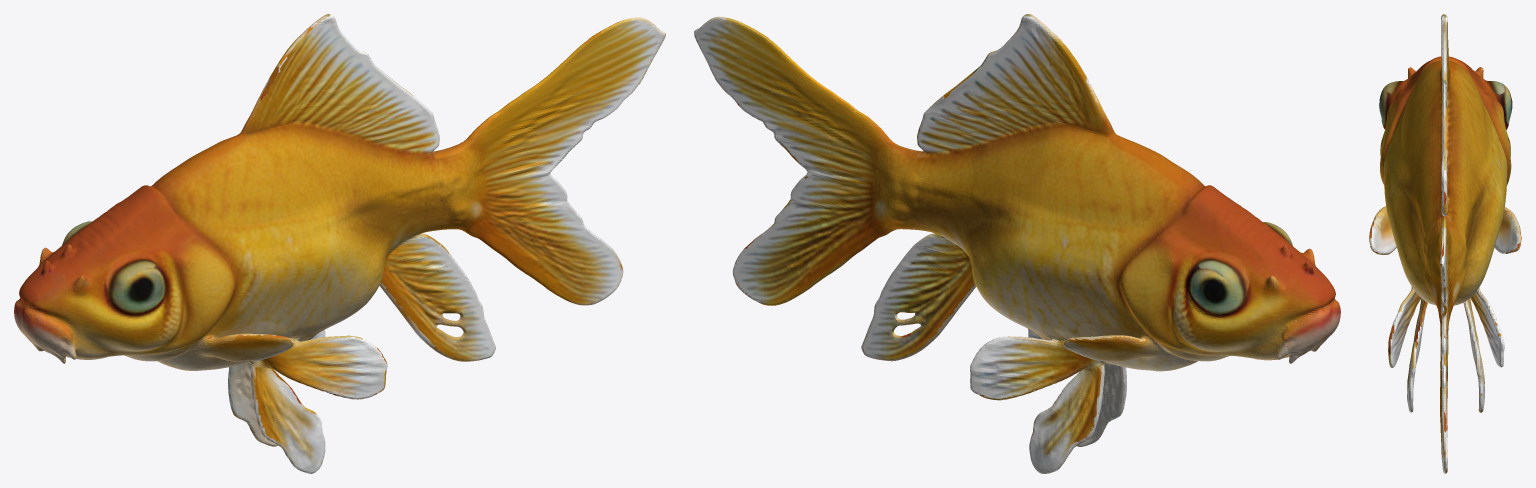
File: paint_mesh_a goldfish.glb
3 renders of one model, left to right at view 1: azimuth 30°, elevation 25°; view 2: azimuth 150°, elevation 25°; view 3: azimuth 270°, elevation 25°, orthographic. The views are drawn at different scales.
Parts seen in each view (by area): view 1: world; view 2: world; view 3: world.
Part boxes in pixels (left/top/right/bottom): world: left=14, top=14, right=665, bottom=473; world: left=694, top=14, right=1340, bottom=473; world: left=1369, top=14, right=1521, bottom=473.
Bounding box in the file's own units: 1.99 × 1.3 × 0.4349.
1 material, 1 textured.
